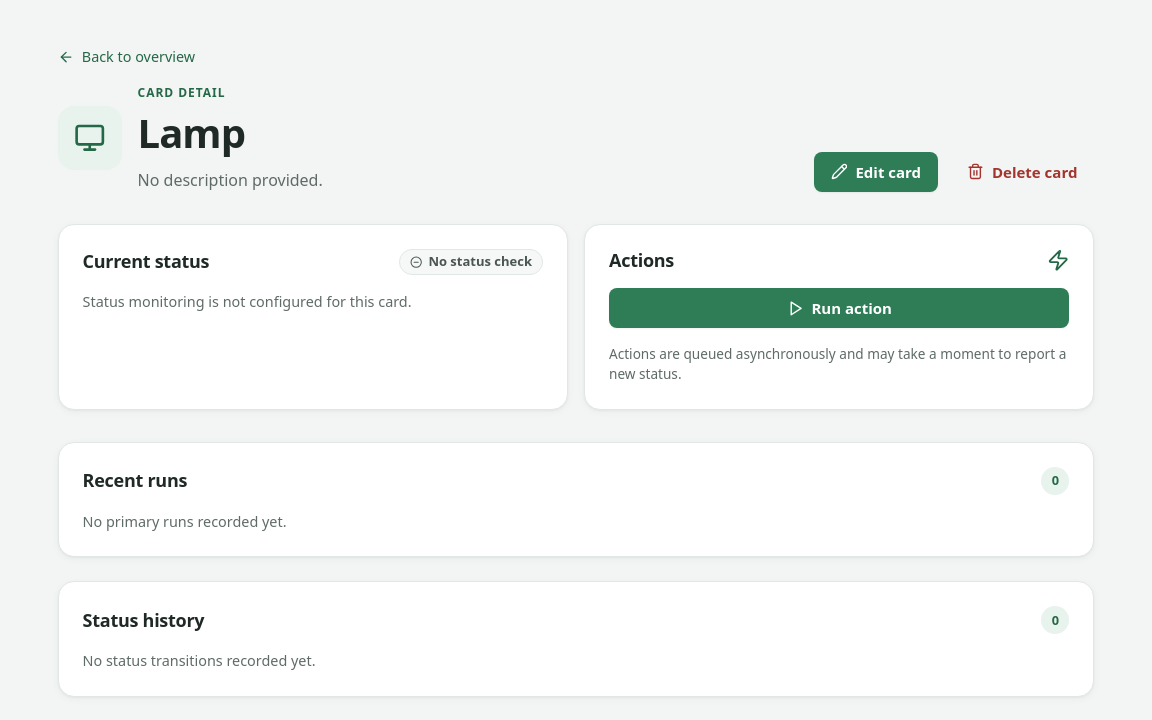
Test: CardDetailView › reports acceptance without waiting when the card has no status action
Click the button "Run action" at (839,308), box [609,288,1069,328]
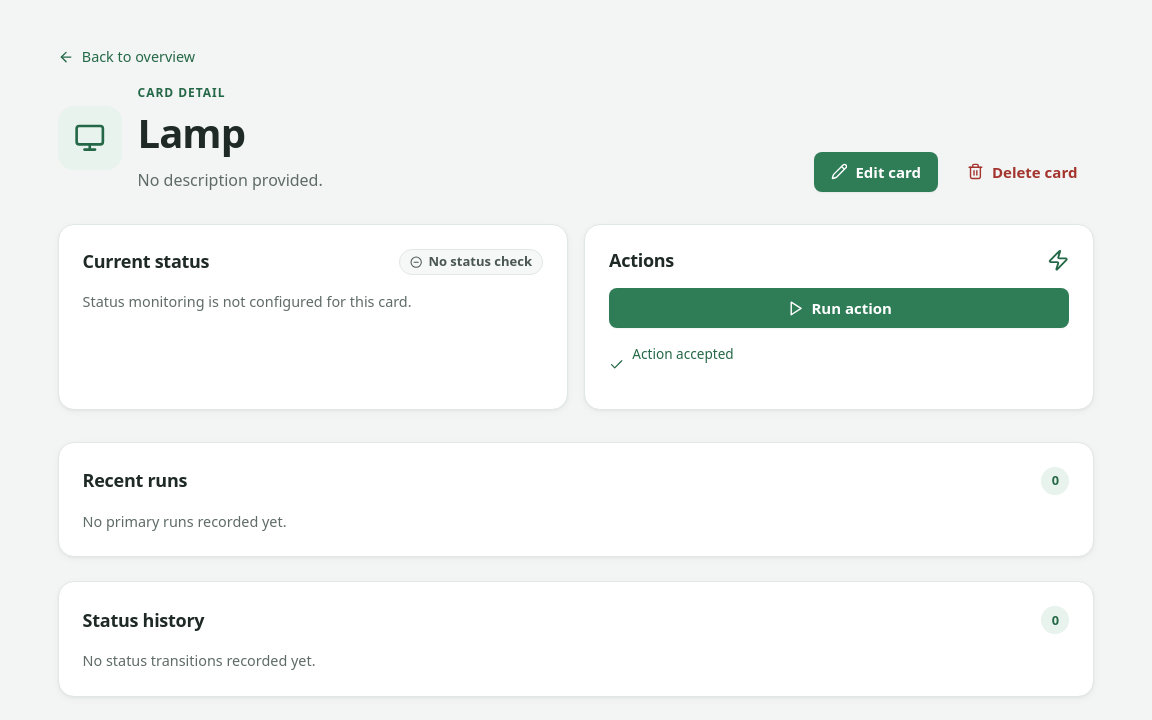
Expected: the text with class "action-note-text" reads "Action accepted", [632,344,734,363]
